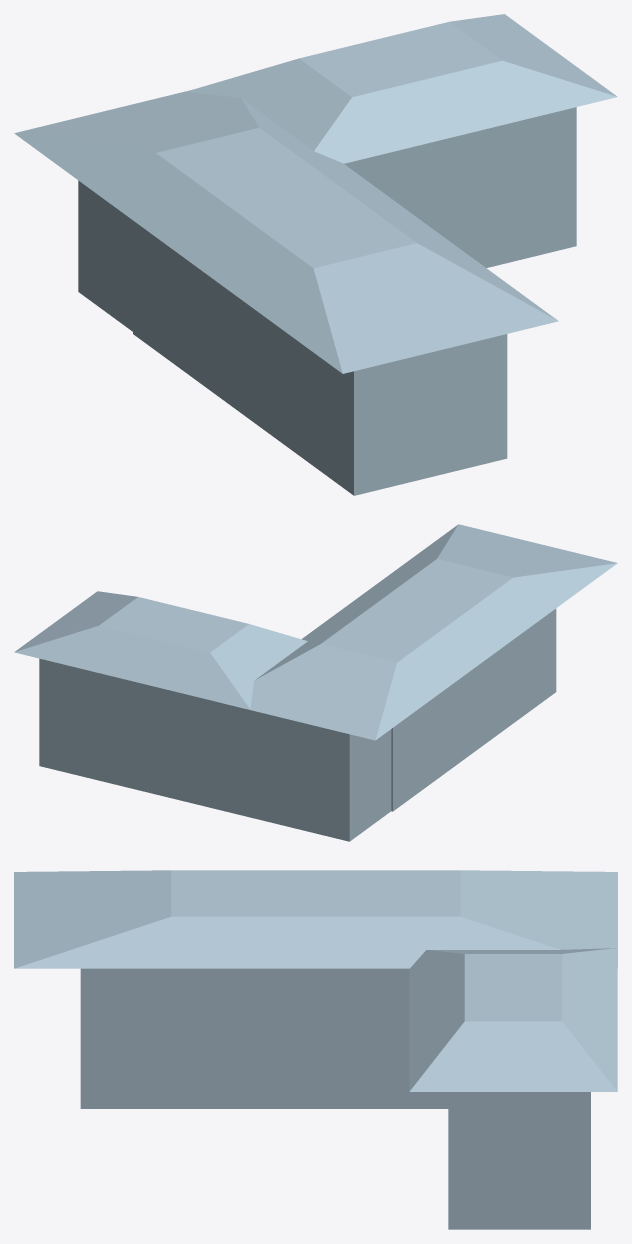
The model's file is Housing12Nav.glb.
3 views of the same model, one above another, from view 1: azimuth 30°, elevation 25°; view 2: azimuth 150°, elevation 25°; view 3: azimuth 270°, elevation 25° (orthographic). The views are drawn at different scales.
Parts seen in each view (by area): view 1: Cube.002, Cube, Cube.003, Cube.001; view 2: Cube.001, Cube.002, Cube.003, Cube; view 3: Cube.002, Cube, Cube.003, Cube.001.
Part boxes in pixels (x1,y1,x2,y2): Cube.002: [14, 90, 558, 373]; Cube: [133, 220, 507, 495]; Cube.003: [185, 14, 617, 163]; Cube.001: [78, 107, 576, 331]; Cube.001: [39, 658, 391, 841]; Cube.002: [216, 524, 617, 740]; Cube.003: [14, 591, 307, 709]; Cube: [391, 608, 556, 811]; Cube.002: [14, 870, 617, 968]; Cube: [80, 968, 448, 1108]; Cube.003: [409, 948, 617, 1091]; Cube.001: [448, 1092, 590, 1229].
Size of the model in its own units: 6.4 by 2.43 by 7.43.
